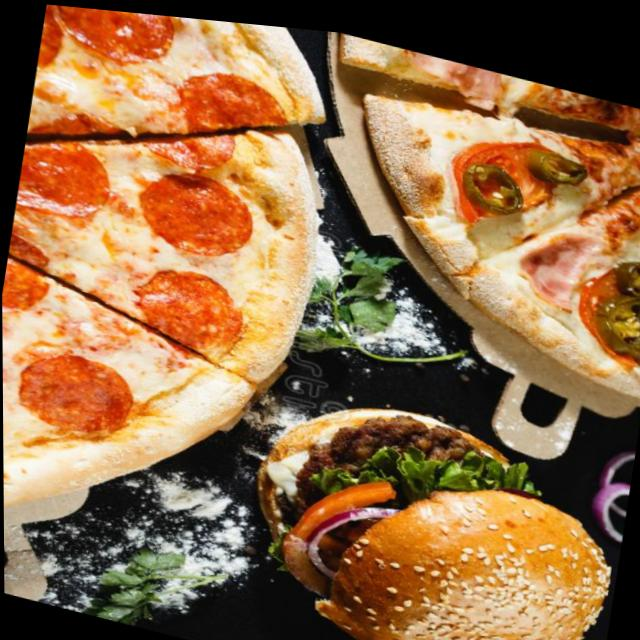burger: (230, 367, 630, 640)
pizza: (0, 0, 355, 599), (292, 22, 640, 389)
